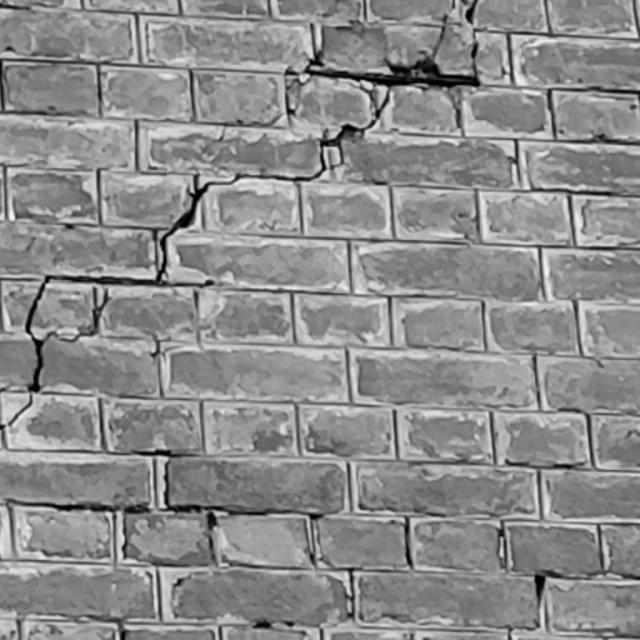crack: (1, 1, 480, 430)
